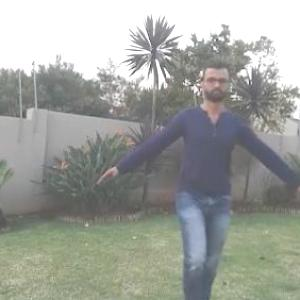land: (126, 86, 265, 256)
